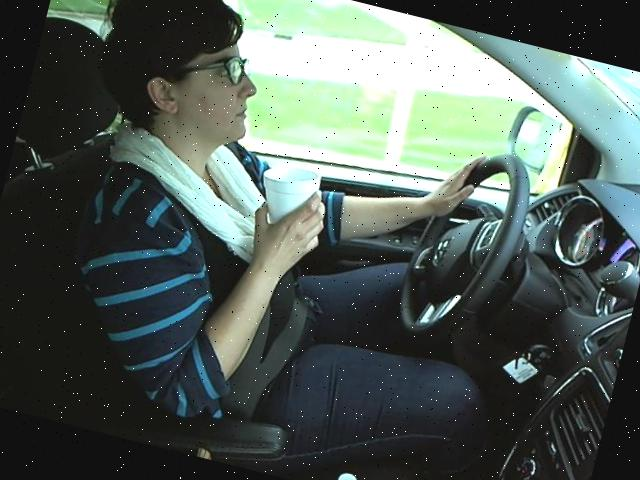c4 - Drinking: (4, 0, 571, 479)
